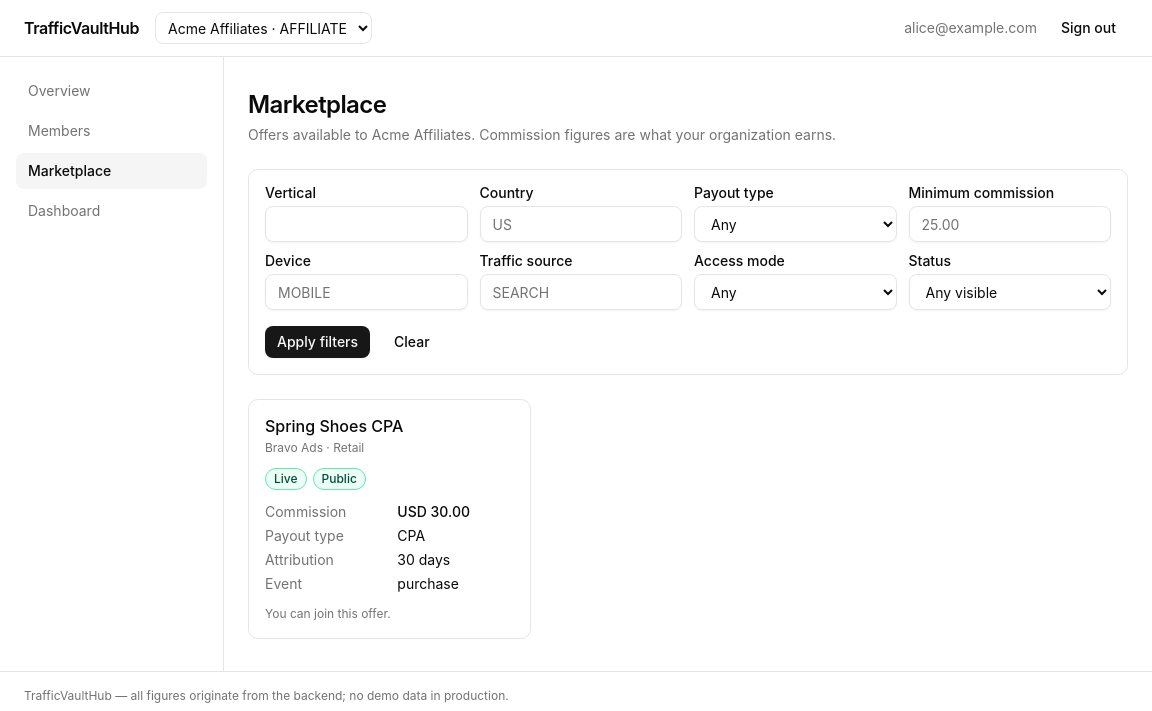
affiliate marketplace › /app/:orgId/marketplace › rejects a malformed commission floor client-side and never sends it
Expected: the link "Spring Shoes CPA" is shown, [265, 416, 403, 436]
Type "25.505" into the field labelled "Minimum commission".
click(1010, 224); type("25.505")  # box [908, 206, 1111, 242]
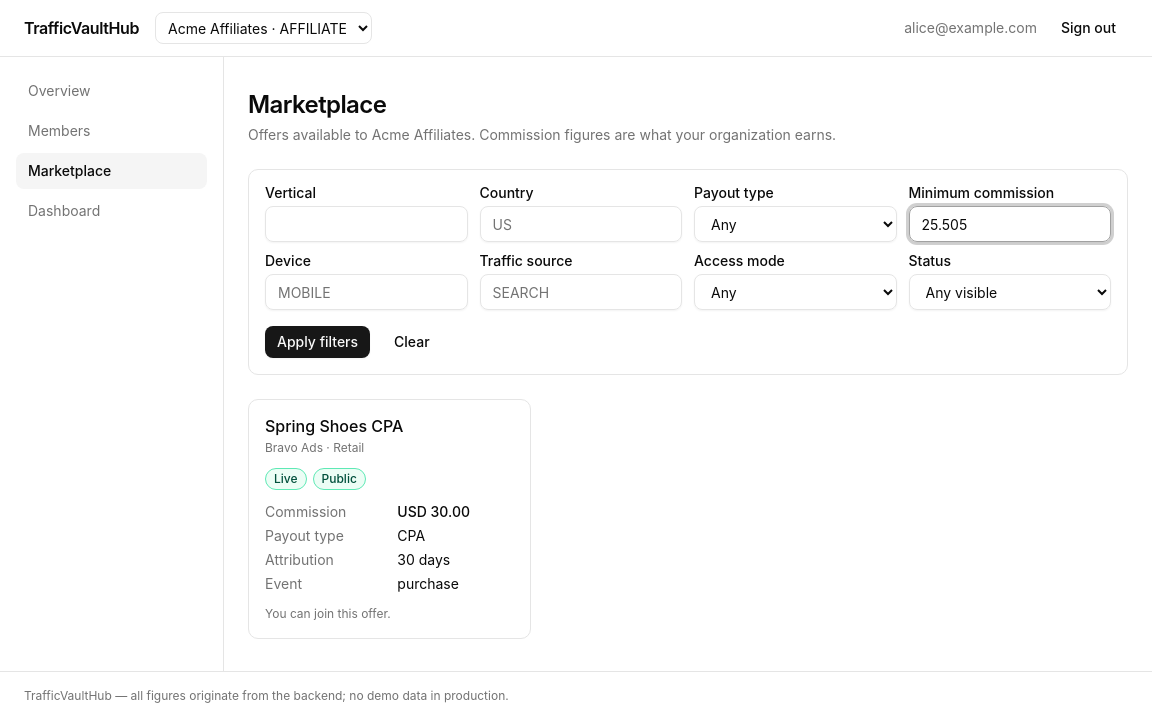
Click the button "Apply filters".
click(318, 342)  # box [265, 326, 370, 358]
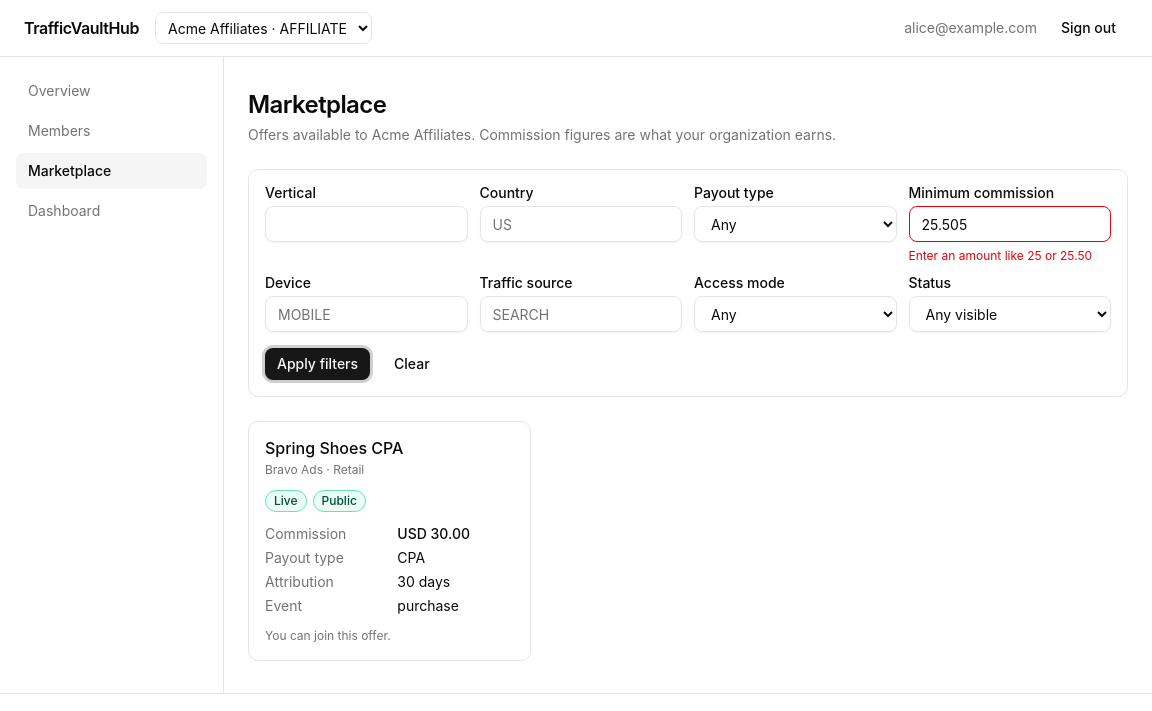
Now the message reads "Enter an amount like 25 or 25.50", box [908, 248, 1092, 263]
